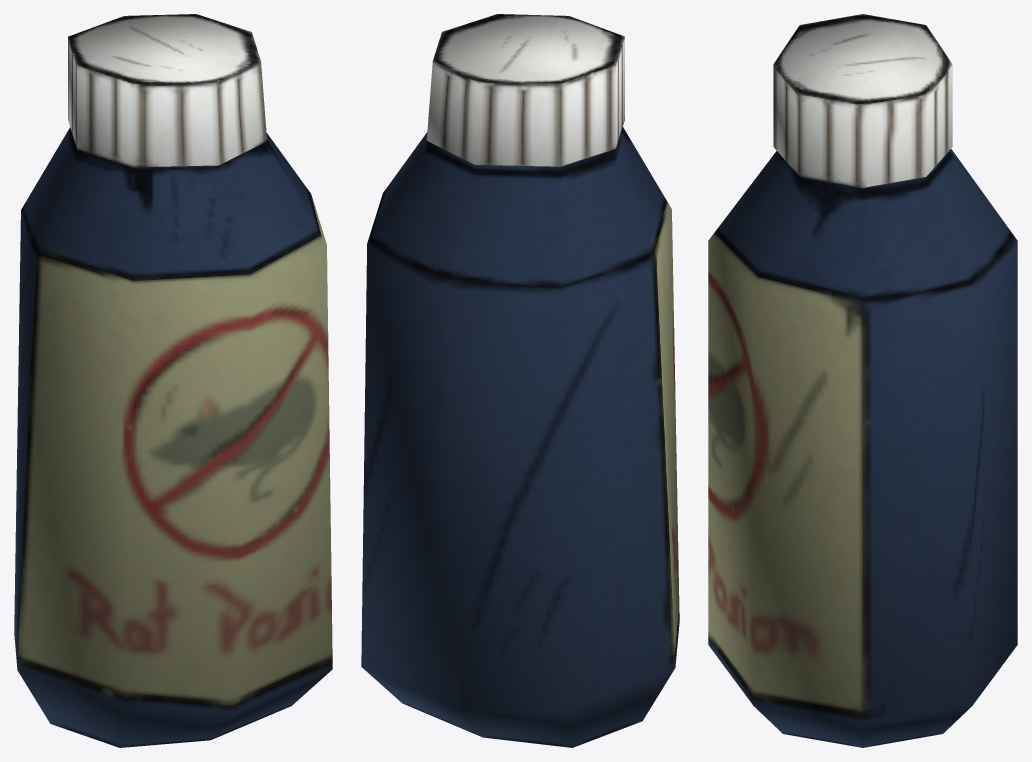
The model's file is Rat_poison.fbx.
3 views of the same model, side by side, from view 1: azimuth 30°, elevation 25°; view 2: azimuth 150°, elevation 25°; view 3: azimuth 270°, elevation 25° (orthographic). The views are drawn at different scales.
Visible parts, largest first — view 1: Rat_poison; view 2: Rat_poison; view 3: Rat_poison.
Part boxes in pixels (x1,y1,x2,y2): Rat_poison: (14,14,332,747); Rat_poison: (361,14,679,747); Rat_poison: (708,14,1017,747).
Size of the model in its own units: 9.32 by 19.5 by 8.54.
1 material, 1 textured.
